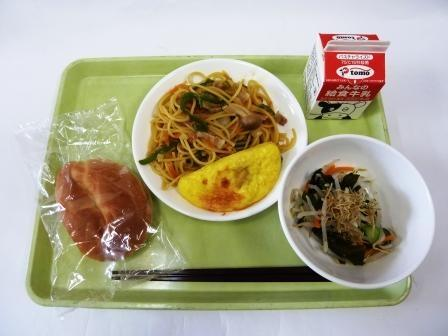Bread: (40, 150, 164, 275)
Milk: (300, 24, 403, 125)
Salad: (291, 150, 416, 270)
Spaghetti: (146, 70, 294, 155)
egg product: (178, 141, 287, 222)
